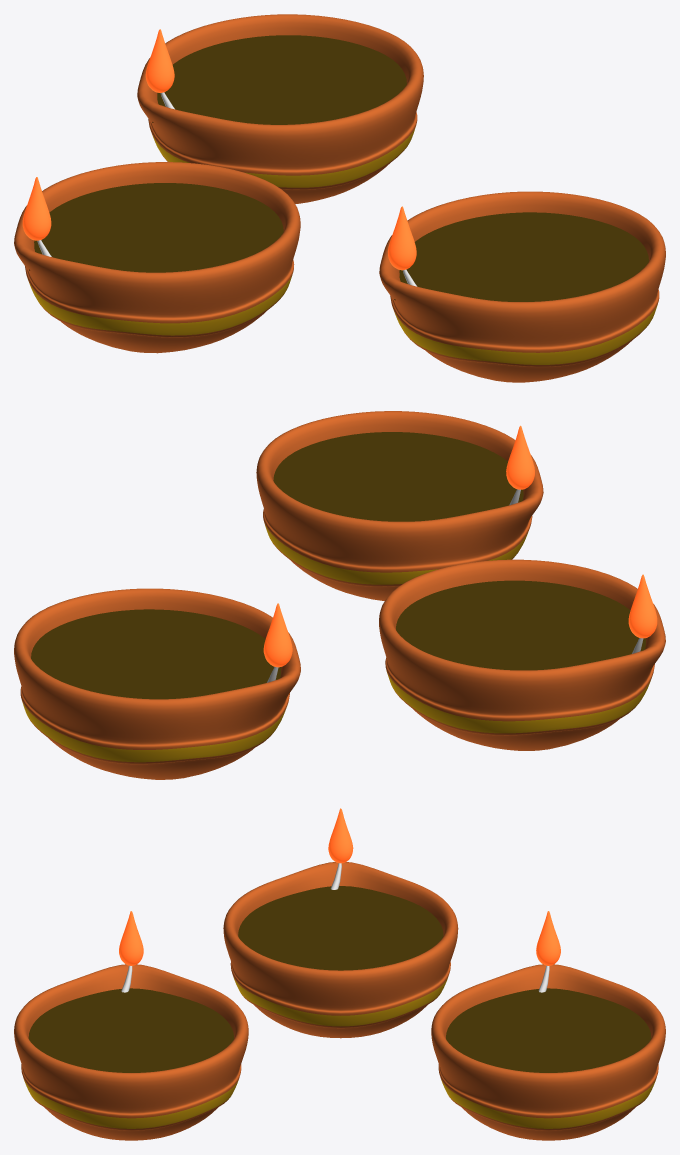
3 views of the same model, one above another, from view 1: azimuth 30°, elevation 25°; view 2: azimuth 150°, elevation 25°; view 3: azimuth 270°, elevation 25° (orthographic). The views are drawn at different scales.
Visible parts, largest first — view 1: Cube.004_17, Cube_4, Cube.002_12, Cube.003_8, Cube.001_0, Cube.005_13, Sphere_3, Sphere.001_11, Sphere.002_16; view 2: Cube.002_12, Cube_4, Cube.004_17, Cube.003_8, Cube.005_13, Cube.001_0, Sphere.001_11, Sphere_3, Sphere.002_16; view 3: Cube.004_17, Cube.002_12, Cube_4, Cube.001_0, Cube.005_13, Cube.003_8, Sphere_3, Sphere.001_11, Sphere.002_16.
Part boxes in pixels (<box>): Cube.004_17: <box>379,191,665,382</box>; Cube_4: <box>14,162,300,353</box>; Cube.002_12: <box>137,14,423,203</box>; Cube.003_8: <box>152,35,406,124</box>; Cube.001_0: <box>29,183,283,272</box>; Cube.005_13: <box>394,212,648,301</box>; Sphere_3: <box>22,177,51,240</box>; Sphere.001_11: <box>145,29,174,92</box>; Sphere.002_16: <box>388,206,416,270</box>; Cube.002_12: <box>14,588,300,779</box>; Cube_4: <box>379,559,665,750</box>; Cube.004_17: <box>256,411,543,600</box>; Cube.003_8: <box>31,609,285,699</box>; Cube.005_13: <box>273,432,528,521</box>; Cube.001_0: <box>396,580,650,670</box>; Sphere.001_11: <box>263,603,292,667</box>; Sphere_3: <box>628,574,657,638</box>; Sphere.002_16: <box>506,425,534,489</box>; Cube.004_17: <box>14,964,248,1140</box>; Cube.002_12: <box>431,964,665,1140</box>; Cube_4: <box>223,862,458,1038</box>; Cube.001_0: <box>238,886,443,970</box>; Cube.005_13: <box>28,988,233,1072</box>; Cube.003_8: <box>446,988,651,1072</box>; Sphere_3: <box>328,808,353,863</box>; Sphere.001_11: <box>536,911,560,965</box>; Sphere.002_16: <box>119,911,143,965</box>.
Size of what is drawn, in the model's own units: 3.49 by 1.23 by 4.51.
